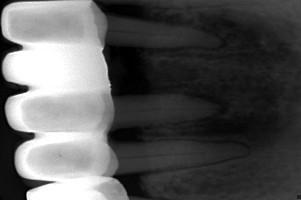Furcation Involvement: (186, 9, 293, 67), (180, 92, 290, 146)
